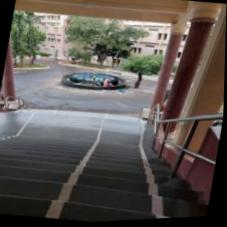Animal: (17, 129, 158, 215)
